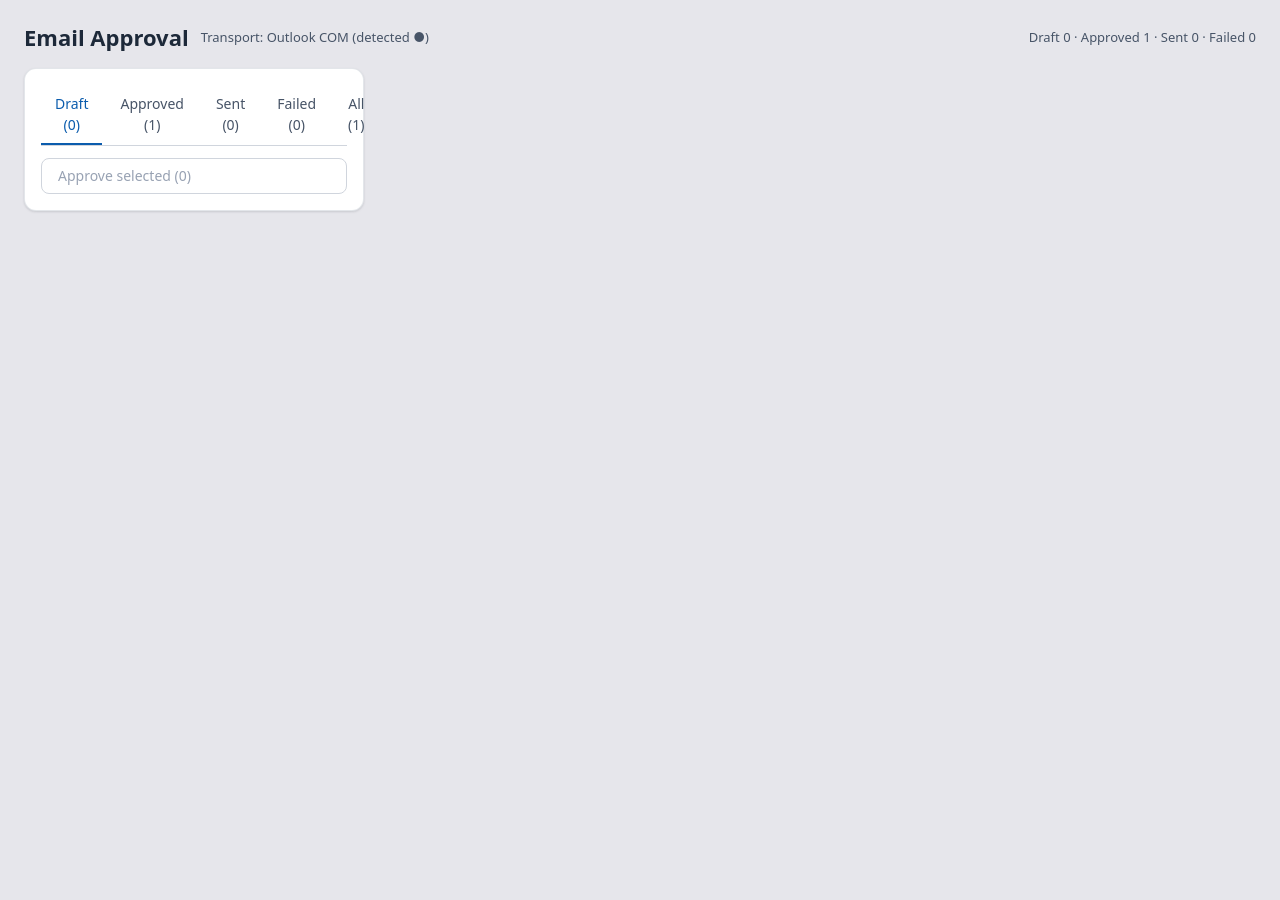
Scenario: EmailApprovalPage transport handoff › keeps handoff confirmation available after switching to COM
Click the tab "Approved (1)" at x=152, y=114, box [106,84,198,144]
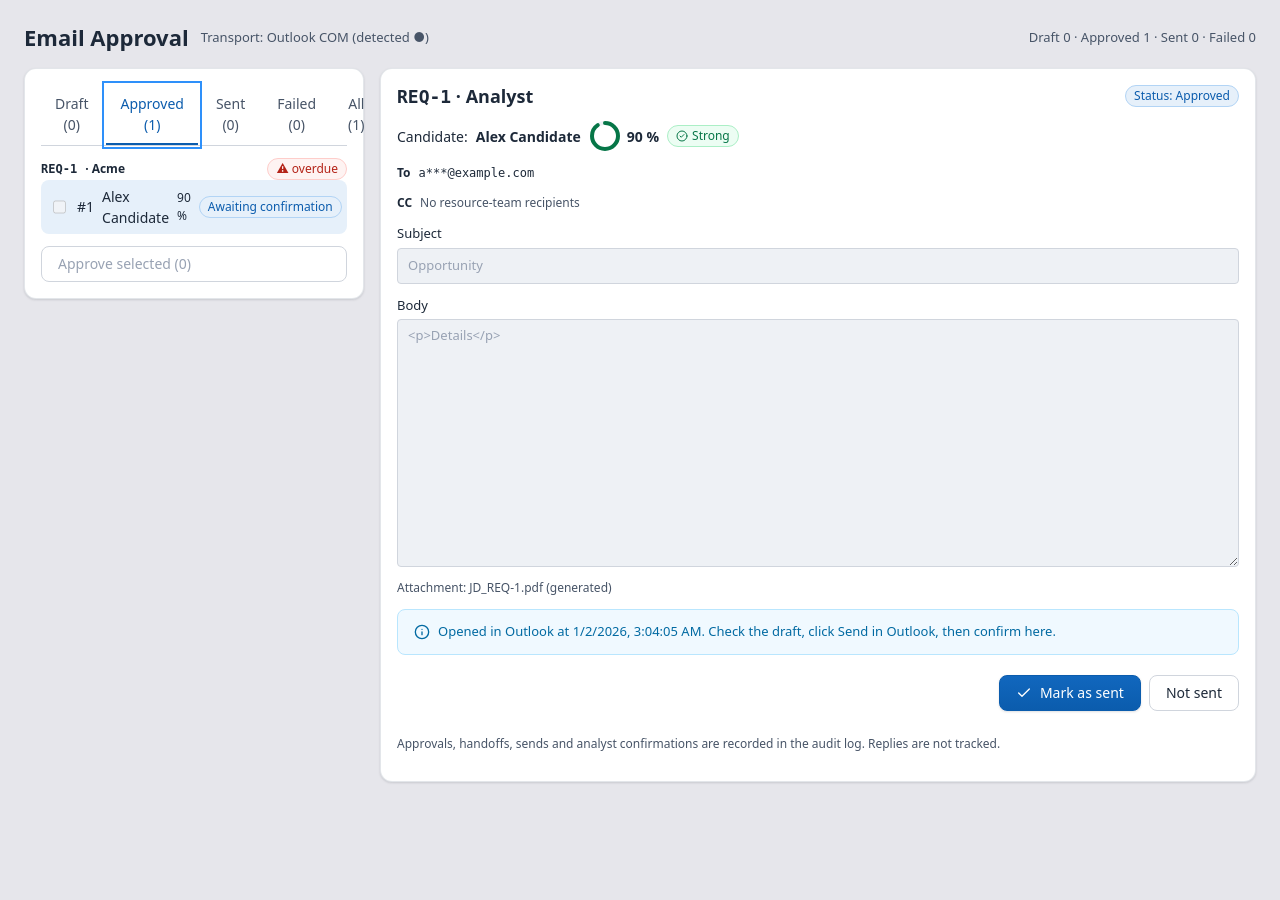
Check: the text "Awaiting confirmation" is shown, box [199,196,342,218]
Check: the button "Mark as sent" is shown, box [999,674,1141,710]
Check: the button "Not sent" is shown, box [1149,674,1239,710]
